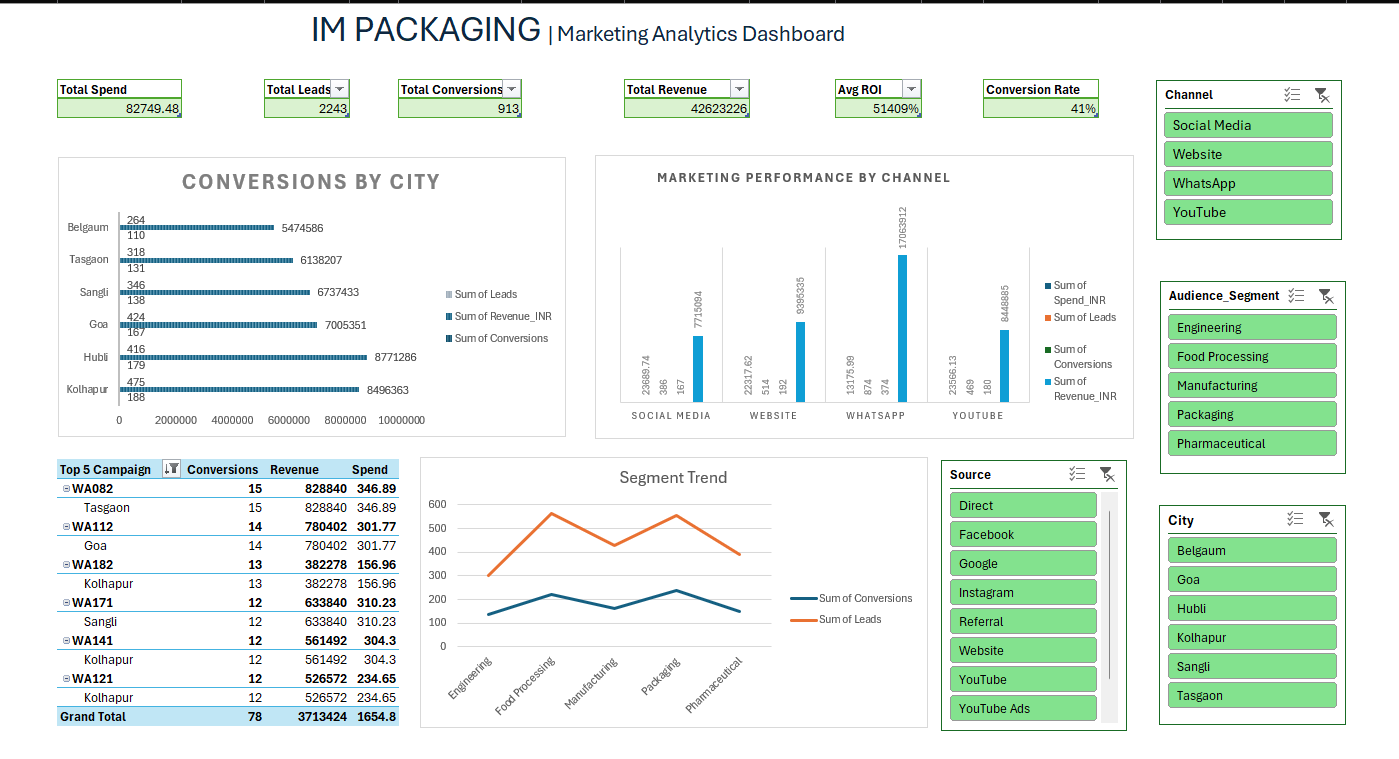

The page's visual inventory and layout, read from the dashboard file:
{"tool":"powerbi","page":{"name":"Page 2","canvas":[2350,1600],"ordinal":1},"visuals":[{"type":"shape","box":[67.2,88.4,2216.3,127.2],"z":0},{"type":"shape","box":[60.1,257.4,385.3,289.8],"z":1000},{"type":"shape","box":[1056.9,618.6,1237.1,456],"z":2000},{"type":"shape","box":[1056.9,1106.4,1208.9,459.5],"z":3000},{"type":"shape","box":[10.6,618.6,487.8,982.6],"z":4000},{"type":"shape","box":[544.3,1134.6,456,431.2],"z":5000},{"type":"shape","box":[544.3,618.6,456,456],"z":6000},{"type":"shape","box":[517.8,264.4,385.3,289.8],"z":7000},{"type":"shape","box":[975.6,264.4,385.3,289.8],"z":8000},{"type":"shape","box":[1433.3,264.4,385.3,289.8],"z":9000},{"type":"shape","box":[1891.1,264.4,385.3,289.8],"z":10000},{"type":"shape","box":[67.2,215.6,2216.3,63.6],"z":11000},{"type":"shape","box":[300.4,275,367.6,268.6],"z":12000},{"type":"shape","box":[758.8,275,367.6,268.6],"z":13000},{"type":"shape","box":[1217.1,275,367.6,268.6],"z":14000},{"type":"shape","box":[1675.4,275,367.6,268.6],"z":15000},{"type":"shape","box":[335.8,714,367.6,802.4],"z":16000},{"type":"shape","box":[837.7,703.4,367.6,802.4],"z":17000},{"type":"shape","box":[63.6,547.9,2216.3,63.6],"z":18000},{"type":"cardVisual","title":"ROI","fields":{"Data":["im_packaging_marketing master_marketing.ROI"]},"box":[1929.9,314.6,300.4,187.3],"z":19000},{"type":"cardVisual","title":"Revenue","fields":{"Data":["im_packaging_marketing master_marketing.Total Revenue"]},"box":[1477.5,314.6,300.4,187.3],"z":20000},{"type":"cardVisual","title":"Leads","fields":{"Data":["im_packaging_marketing master_marketing.Total Leads"]},"box":[1014.5,314.6,300.4,187.3],"z":21000},{"type":"cardVisual","title":"Spend","fields":{"Data":["im_packaging_marketing master_marketing.Total Spend"]},"box":[544.3,314.6,300.4,187.3],"z":22000},{"type":"cardVisual","title":"CPL","fields":{"Data":["im_packaging_marketing master_marketing.Cost Per Lead"]},"box":[99,314.6,300.4,187.3],"z":23000},{"type":"columnChart","fields":{"Y":["im_packaging_marketing master_marketing.Total Conversions"],"Category":["im_packaging_marketing master_marketing.Channel"]},"box":[544.3,1166.4,456,374.7],"z":24000},{"type":"ribbonChart","fields":{"Y":["im_packaging_marketing master_marketing.Total Revenue"],"Series":["im_packaging_marketing master_marketing.Channel"],"Category":["im_packaging_marketing master_marketing.week"]},"box":[1088.7,650.4,1159.4,406.5],"z":25000},{"type":"clusteredBarChart","title":"Total Conversions by City","fields":{"Category":["im_packaging_marketing master_marketing.City"],"Y":["Sum(im_packaging_marketing master_marketing.Conversions)"]},"box":[544.3,650.4,456,424.2],"z":26000},{"type":"pivotTable","fields":{"Rows":["im_packaging_marketing master_marketing.Audience_Segment"],"Columns":["im_packaging_marketing master_marketing.Channel"],"Values":["im_packaging_marketing master_marketing.Total Leads","im_packaging_marketing master_marketing.Total Revenue","Sum(im_packaging_marketing master_marketing.Conversions)"]},"box":[1088.7,1134.6,1173.5,406.5],"z":27000},{"type":"slicer","fields":{"Values":["im_packaging_marketing master_marketing.Channel"]},"box":[99,106,480.7,106],"z":27001},{"type":"slicer","fields":{"Values":["im_packaging_marketing master_marketing.Source"]},"box":[1767.3,106,480.7,106],"z":27002},{"type":"slicer","fields":{"Values":["im_packaging_marketing master_marketing.Audience_Segment"]},"box":[1211.2,106,480.7,106],"z":27003},{"type":"slicer","fields":{"Values":["im_packaging_marketing master_marketing.week"]},"box":[655.1,106,480.7,106],"z":27004},{"type":"textbox","box":[35.3,1056.9,448.9,509],"z":27005},{"type":"image","box":[10.6,650.4,505.5,406.5],"z":27006}]}

Visuals, with their boxes on the page's 2350x1600 design canvas (x1, y1, x2, y2). These are canvas units, not pixel positions in the 1399x759 screenshot, which may show the page scaled, cropped or inside an application window:
shape: [67,88,2284,216]
shape: [60,257,445,547]
shape: [1057,619,2294,1075]
shape: [1057,1106,2266,1566]
shape: [11,619,498,1601]
shape: [544,1135,1000,1566]
shape: [544,619,1000,1075]
shape: [518,264,903,554]
shape: [976,264,1361,554]
shape: [1433,264,1819,554]
shape: [1891,264,2276,554]
shape: [67,216,2284,279]
shape: [300,275,668,544]
shape: [759,275,1126,544]
shape: [1217,275,1585,544]
shape: [1675,275,2043,544]
shape: [336,714,703,1516]
shape: [838,703,1205,1506]
shape: [64,548,2280,612]
"ROI" cardVisual: [1930,315,2230,502]
"Revenue" cardVisual: [1478,315,1778,502]
"Leads" cardVisual: [1014,315,1315,502]
"Spend" cardVisual: [544,315,845,502]
"CPL" cardVisual: [99,315,399,502]
columnChart - im_packaging_marketing master_marketing.Total Conversions x im_packaging_marketing master_marketing.Channel: [544,1166,1000,1541]
ribbonChart - im_packaging_marketing master_marketing.Total Revenue x im_packaging_marketing master_marketing.Channel: [1089,650,2248,1057]
"Total Conversions by City" clusteredBarChart: [544,650,1000,1075]
pivotTable - im_packaging_marketing master_marketing.Audience_Segment x im_packaging_marketing master_marketing.Channel: [1089,1135,2262,1541]
slicer - im_packaging_marketing master_marketing.Channel: [99,106,580,212]
slicer - im_packaging_marketing master_marketing.Source: [1767,106,2248,212]
slicer - im_packaging_marketing master_marketing.Audience_Segment: [1211,106,1692,212]
slicer - im_packaging_marketing master_marketing.week: [655,106,1136,212]
textbox: [35,1057,484,1566]
image: [11,650,516,1057]
